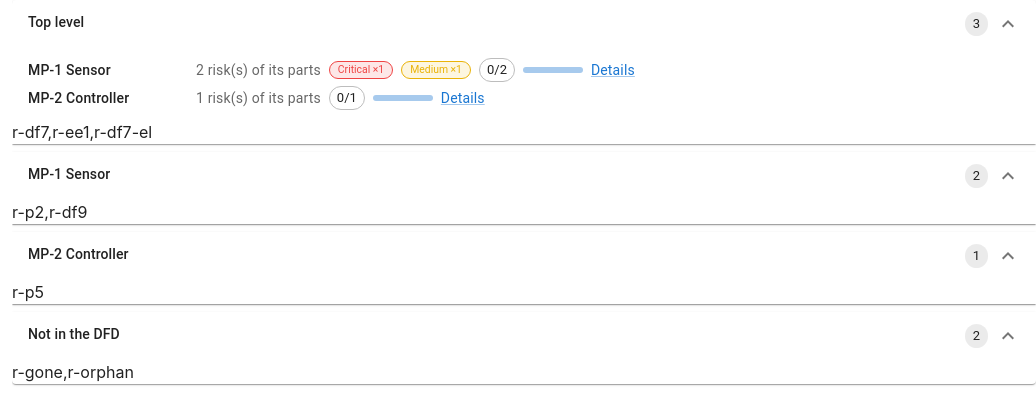
RiskGroupSections › shows a summary row per multiprocess on the top level; Details opens the group
# Collapse MP-1, then "Details" opens it again.
Click the heading "MP-1 Sensor" at coordinates (69, 174), box [28,166,110,182]
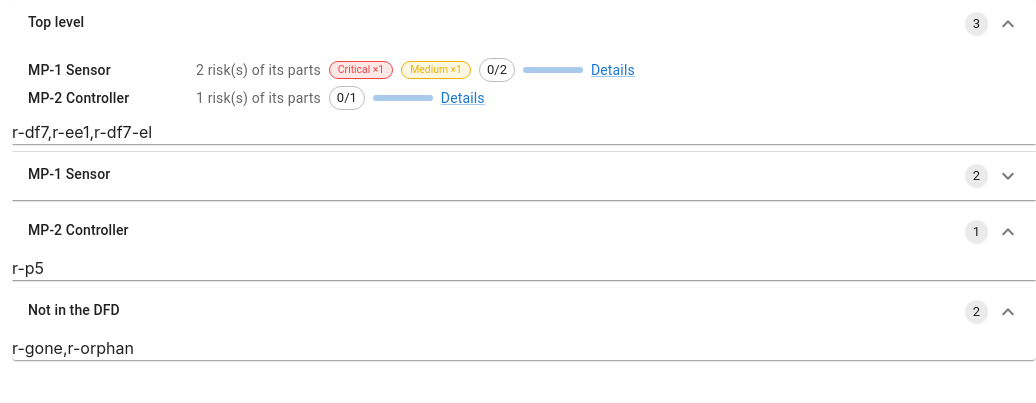
Expected: the text with test id "view-mp1" is gone
Click the button "Details" next to "0/2" at coordinates (613, 70), box [591,60,635,80]
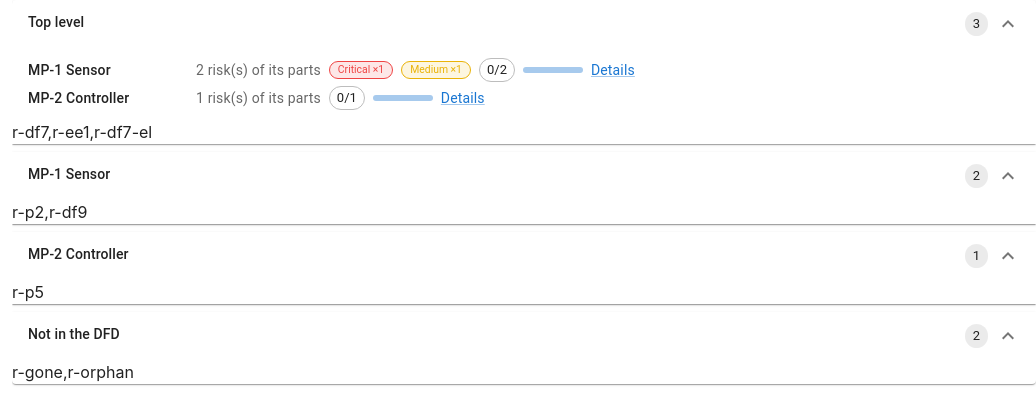
Expected: the text with test id "view-mp1" reads "r-p2,r-df9", [12,202,87,222]
